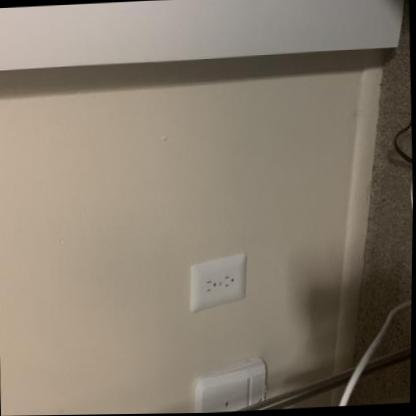OUTLET: (188, 250, 250, 306)
